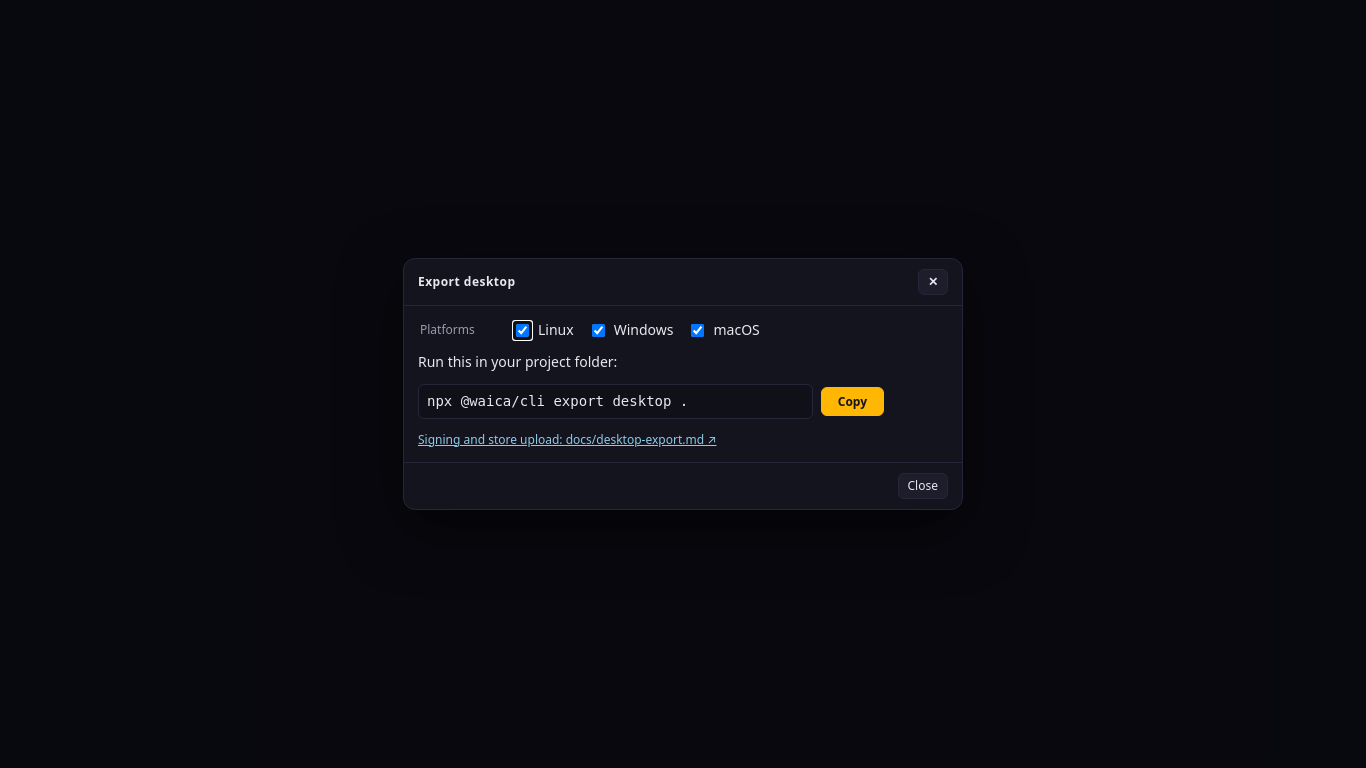
Test case: ExportDesktopModal: the copy message follows the command (issue 200 CA-25) › clears Copied once the command changes
What coordinates should you click on to do the following:
click the button "Copy"
I would click on:
 (852, 402)
Its box is [821,387,884,416].
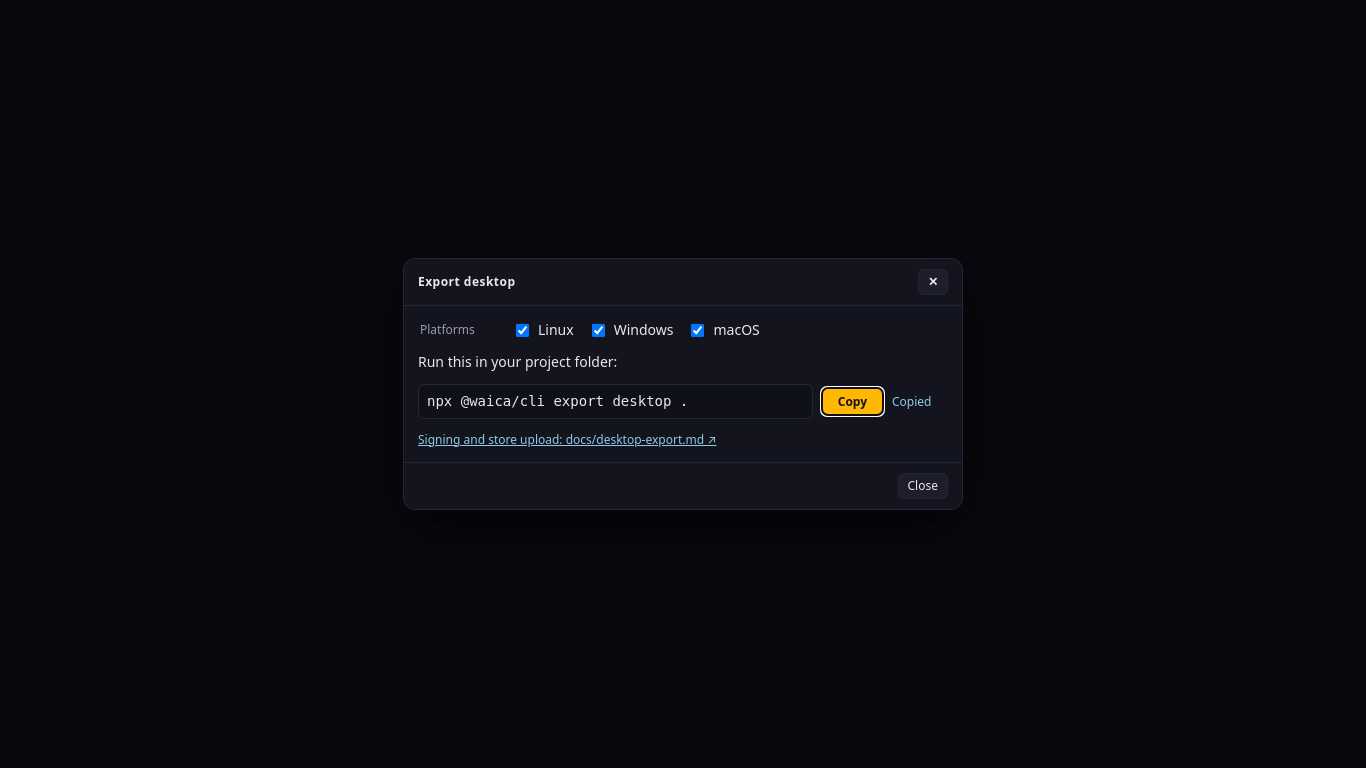
Now the text "Copied" is shown, box [892,393,932,410]
What coordinates should you click on to do the following:
click the checkbox labelled "macOS"
I would click on:
 (698, 330)
Its box is [692,324,704,336].
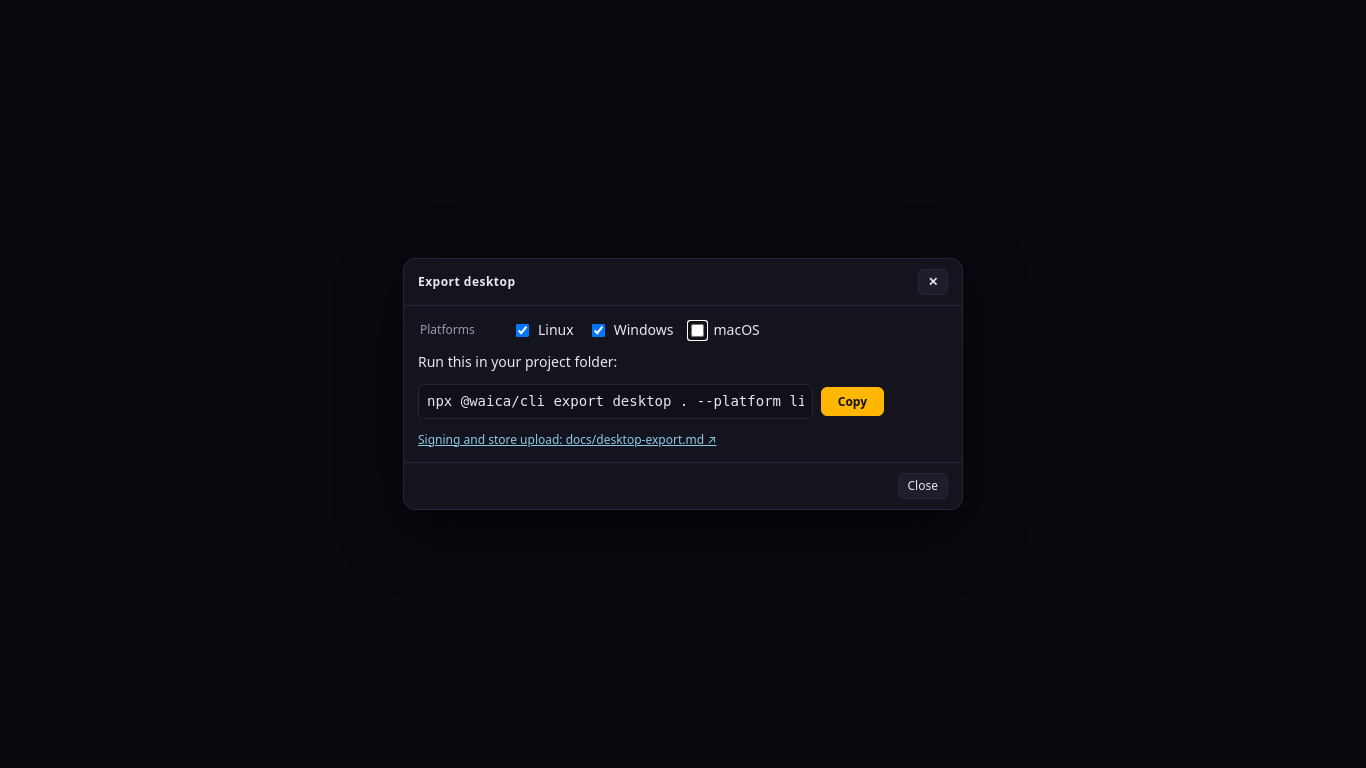
Now the text "Copied" is gone
